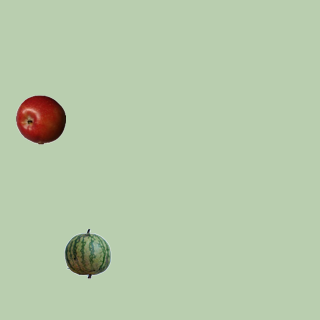Apple Braeburn: (15, 94, 65, 144)
Watermelon: (62, 228, 112, 278)
